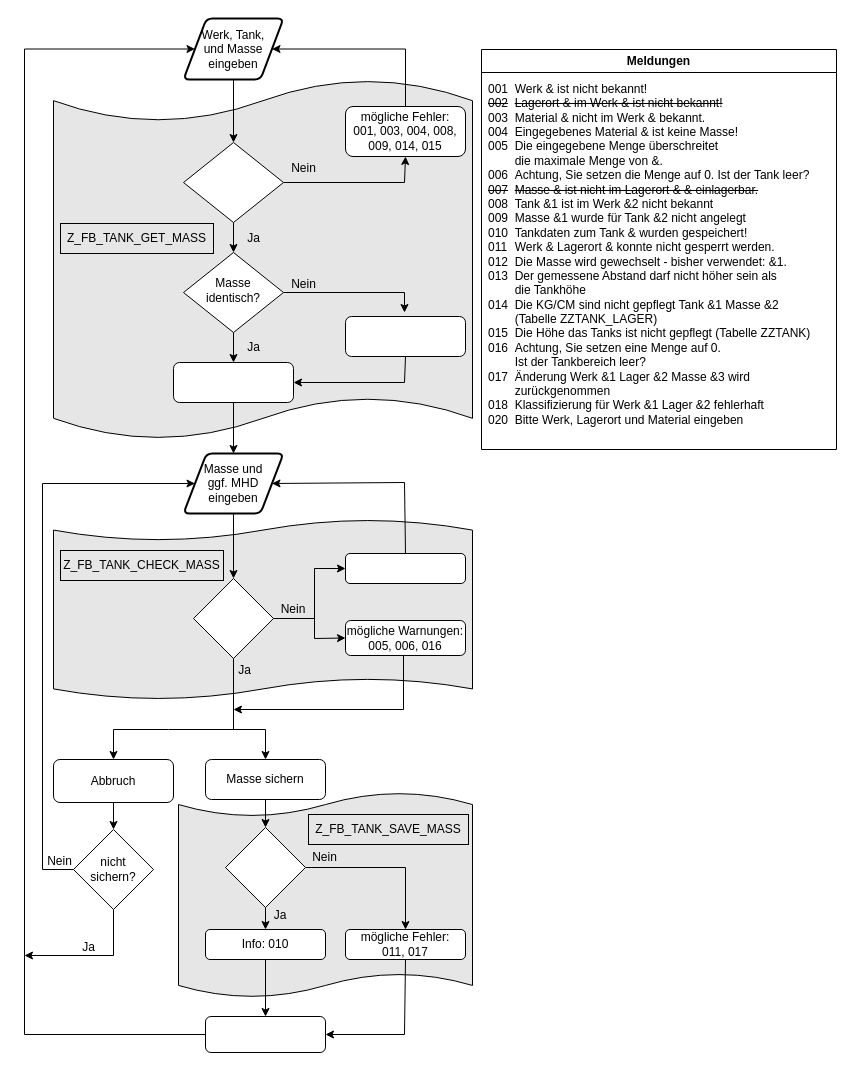
Image size: 854x1070. Some labels were removed from this diagram. Here are the shapes that lost their labels. From the top down, the centre of each, then its label:
(233,182): Kombi Tank-Masse gültig?
(405,336): Info: 012
(233,382): Informationen zu Kombi ermitteln
(405,568): mögliche Fehler: 013, 014, 018
(233,618): Masse ok?
(265,867): Sichern erfolgreich?
(265,1034): Werte initialisieren
